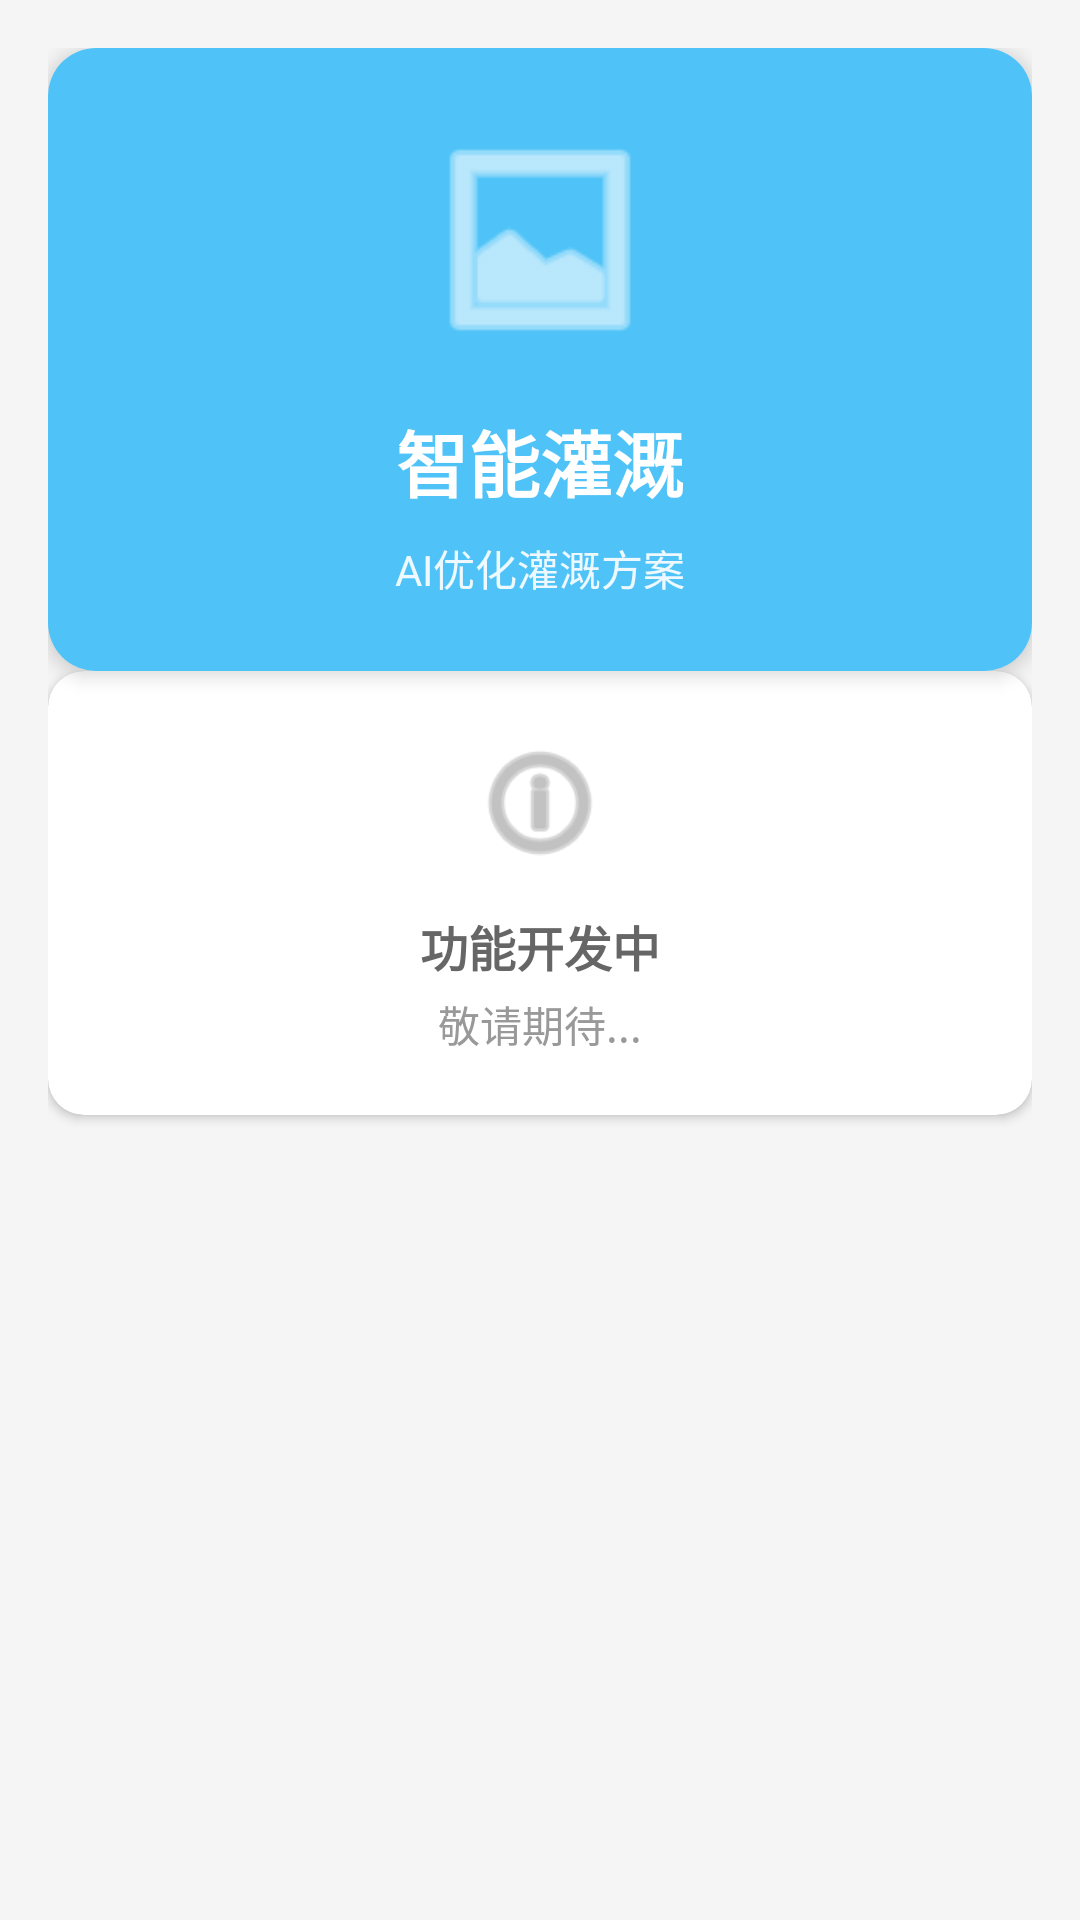

Where icons sit on this 1080*1920 app screen, as detection(x1, y1, x2, y2):
info details: detection(489, 752, 591, 854)
